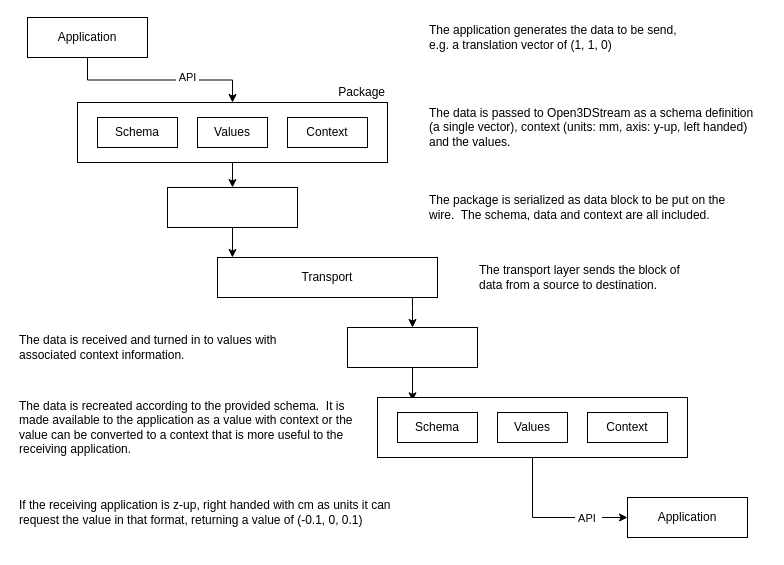
The diagram is 784 pixels wide and 565 high, and some of its shapes have lost their labels. The box of each missing label's shape, as (x1, y1, x2, y2) in pixels:
Decoding: (346, 326, 478, 368)
Encoding: (166, 186, 298, 228)
